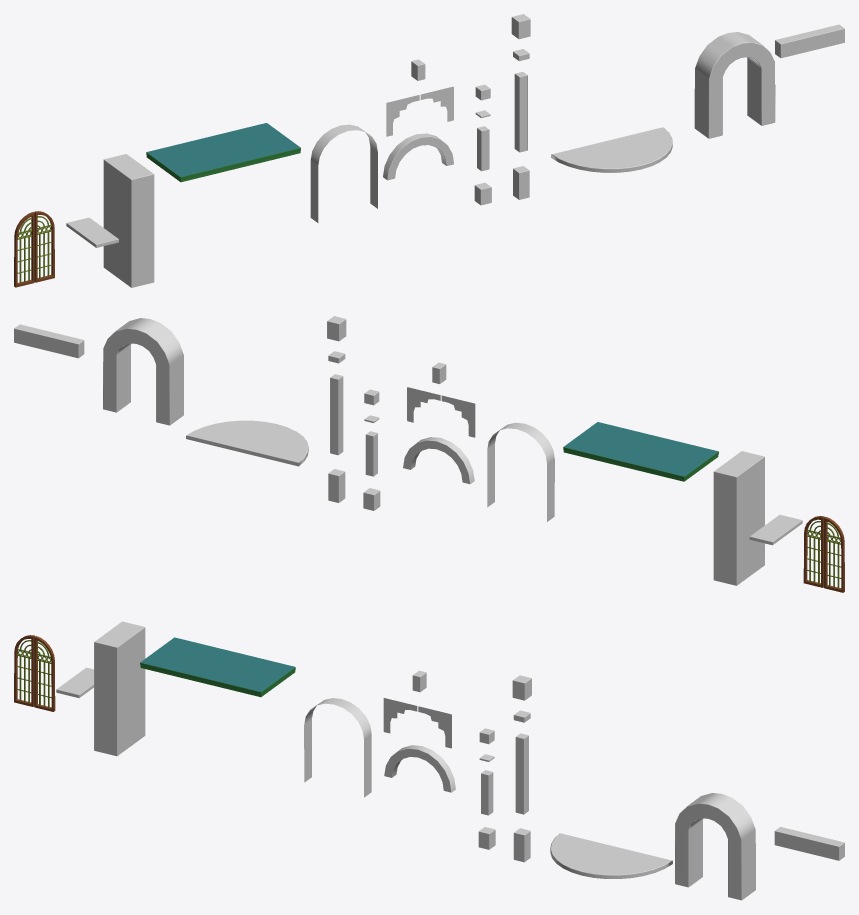
The model's file is M_House_Door_JdP.fbx.
The picture shows the model from 3 angles, top to bottom: view 1: azimuth 30°, elevation 25°; view 2: azimuth 150°, elevation 25°; view 3: azimuth 330°, elevation 25°; orthographic projection.
Parts seen in each view (by area): view 1: M_House_Door_JdP.017, M_House_Door_JdP.014, M_House_Door_JdP.016, M_House_Door_JdP.005, HouseDoor_JdP_Low.001, M_House_Door_JdP, M_House_Door_JdP.015, M_House_Door_JdP.013, M_House_Door_JdP.002, M_House_Door_JdP.018, M_House_Door_JdP.007, M_House_Door_JdP.012 (+2 smaller); view 2: M_House_Door_JdP.017, M_House_Door_JdP.014, M_House_Door_JdP.016, M_House_Door_JdP.005, HouseDoor_JdP_Low.001, M_House_Door_JdP, M_House_Door_JdP.015, M_House_Door_JdP.013, M_House_Door_JdP.002, M_House_Door_JdP.018, M_House_Door_JdP.012, M_House_Door_JdP.007 (+2 smaller); view 3: M_House_Door_JdP.017, M_House_Door_JdP.014, M_House_Door_JdP.016, M_House_Door_JdP.005, HouseDoor_JdP_Low.001, M_House_Door_JdP, M_House_Door_JdP.015, M_House_Door_JdP.013, M_House_Door_JdP.002, M_House_Door_JdP.018, M_House_Door_JdP.012, M_House_Door_JdP.007 (+2 smaller).
Part boxes in pixels (x1,y1,x2,y2): M_House_Door_JdP.017: [103, 154, 154, 287]; M_House_Door_JdP.014: [694, 32, 775, 138]; M_House_Door_JdP.016: [146, 123, 300, 182]; M_House_Door_JdP.005: [551, 127, 672, 172]; HouseDoor_JdP_Low.001: [14, 211, 54, 287]; M_House_Door_JdP: [310, 124, 377, 222]; M_House_Door_JdP.015: [775, 24, 844, 58]; M_House_Door_JdP.013: [383, 133, 453, 180]; M_House_Door_JdP.002: [514, 71, 527, 152]; M_House_Door_JdP.018: [66, 217, 118, 247]; M_House_Door_JdP.007: [477, 126, 489, 171]; M_House_Door_JdP.012: [386, 95, 419, 136]; M_House_Door_JdP.017: [713, 451, 764, 585]; M_House_Door_JdP.014: [103, 318, 183, 425]; M_House_Door_JdP.016: [563, 422, 718, 481]; M_House_Door_JdP.005: [186, 420, 308, 466]; HouseDoor_JdP_Low.001: [803, 516, 844, 592]; M_House_Door_JdP: [487, 422, 554, 521]; M_House_Door_JdP.015: [14, 324, 84, 358]; M_House_Door_JdP.013: [403, 437, 474, 484]; M_House_Door_JdP.002: [330, 374, 343, 455]; M_House_Door_JdP.018: [749, 514, 802, 545]; M_House_Door_JdP.012: [441, 395, 475, 437]; M_House_Door_JdP.007: [365, 431, 377, 476]; M_House_Door_JdP.017: [94, 621, 145, 756]; M_House_Door_JdP.014: [675, 793, 755, 900]; M_House_Door_JdP.016: [140, 637, 295, 697]; M_House_Door_JdP.005: [550, 833, 672, 878]; HouseDoor_JdP_Low.001: [14, 635, 55, 711]; M_House_Door_JdP: [304, 698, 371, 797]; M_House_Door_JdP.015: [774, 827, 844, 860]; M_House_Door_JdP.013: [384, 745, 455, 792]; M_House_Door_JdP.002: [515, 733, 528, 814]; M_House_Door_JdP.018: [56, 667, 93, 697]; M_House_Door_JdP.012: [383, 698, 417, 733]; M_House_Door_JdP.007: [481, 770, 493, 815].
Size of the model in its own units: 10147 by 2101 by 963.
